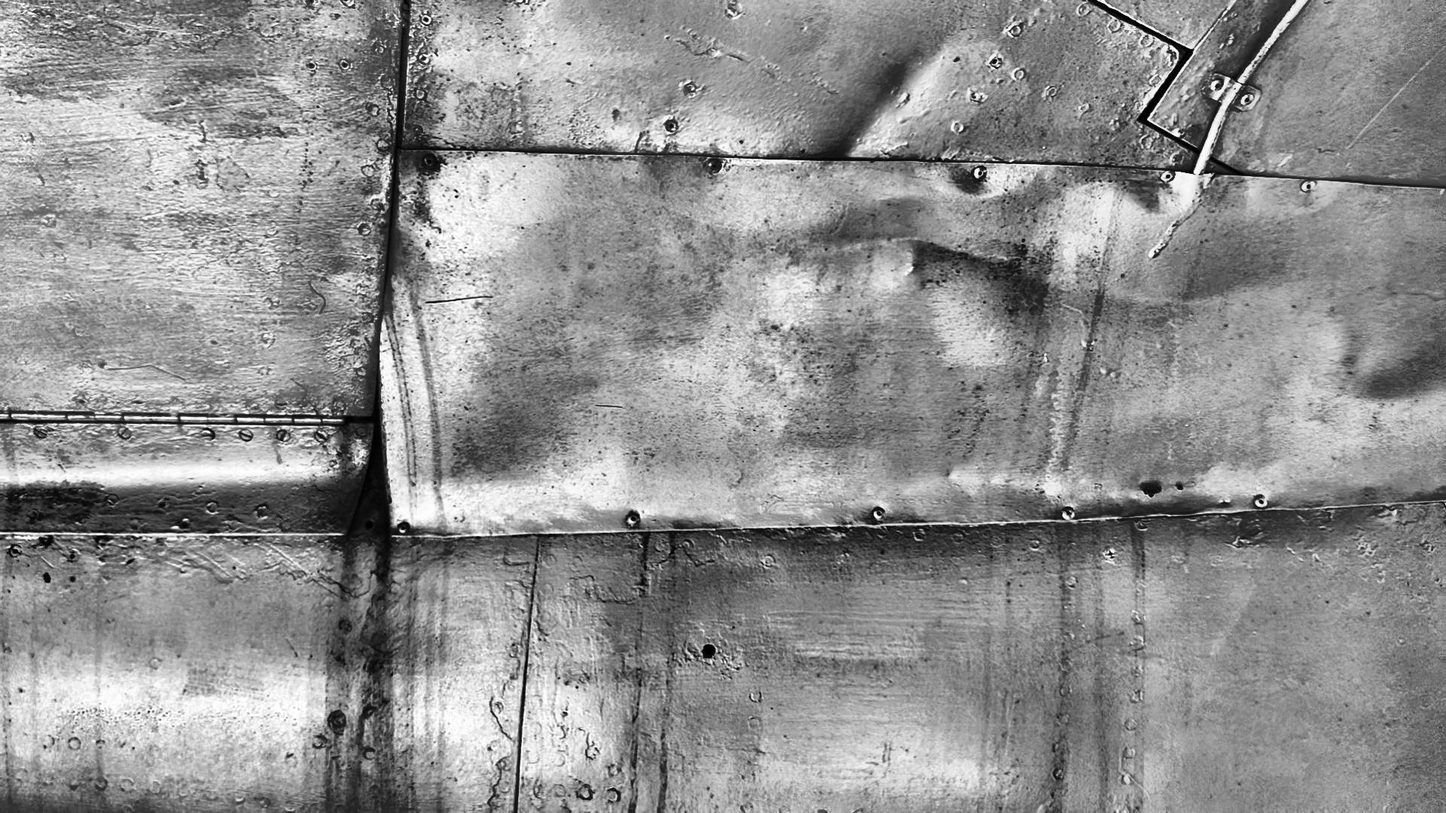crack: (1204, 172, 1218, 188)
dent: (831, 233, 1239, 310), (831, 44, 946, 158), (1047, 169, 1192, 213), (904, 470, 1063, 508), (1342, 351, 1445, 405), (1121, 494, 1235, 519), (944, 162, 1011, 199), (868, 191, 943, 218), (643, 511, 737, 531), (899, 250, 923, 282)
missing-head: (666, 122, 678, 132), (990, 58, 1000, 67)
scratch: (1343, 45, 1446, 151), (264, 542, 342, 599), (422, 294, 493, 304), (593, 399, 625, 411)
